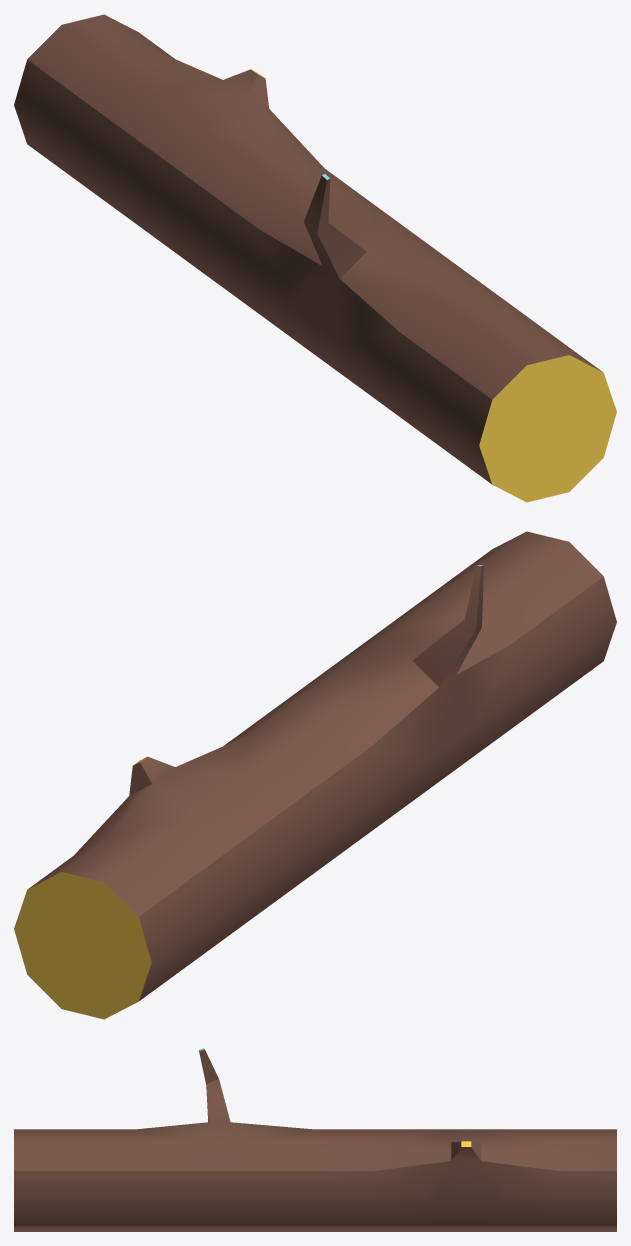
File: trunk1-flat.glb
3 views of the same model, one above another, from view 1: azimuth 30°, elevation 25°; view 2: azimuth 150°, elevation 25°; view 3: azimuth 270°, elevation 25° (orthographic). The views are drawn at different scales.
Visible parts, largest first — view 1: trunk_1; view 2: trunk_1; view 3: trunk_1.
Boxes of the visible parts, left/top/right/bottom form: trunk_1: left=14, top=14, right=616, bottom=502; trunk_1: left=14, top=531, right=616, bottom=1019; trunk_1: left=14, top=1048, right=616, bottom=1231.
Size of what is drawn, in the model's own units: 4.31 by 6.23 by 22.43.
1 material, 1 textured.
